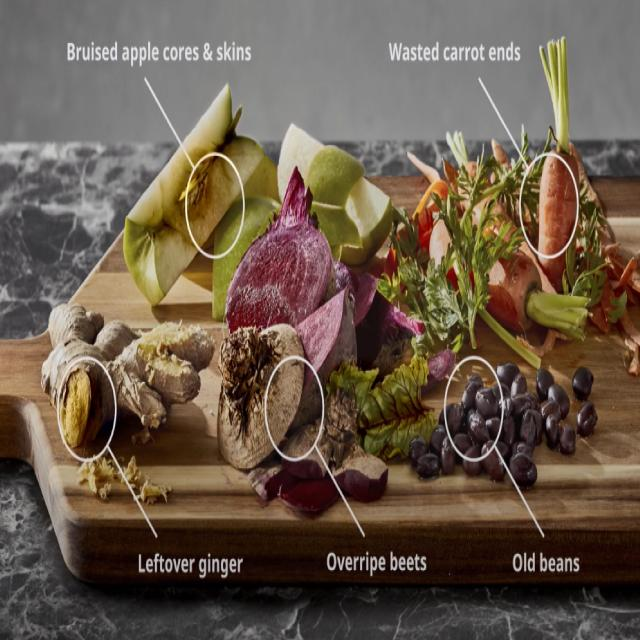wet: (431, 250, 547, 369), (216, 325, 304, 468), (42, 338, 112, 448), (534, 150, 580, 286)
